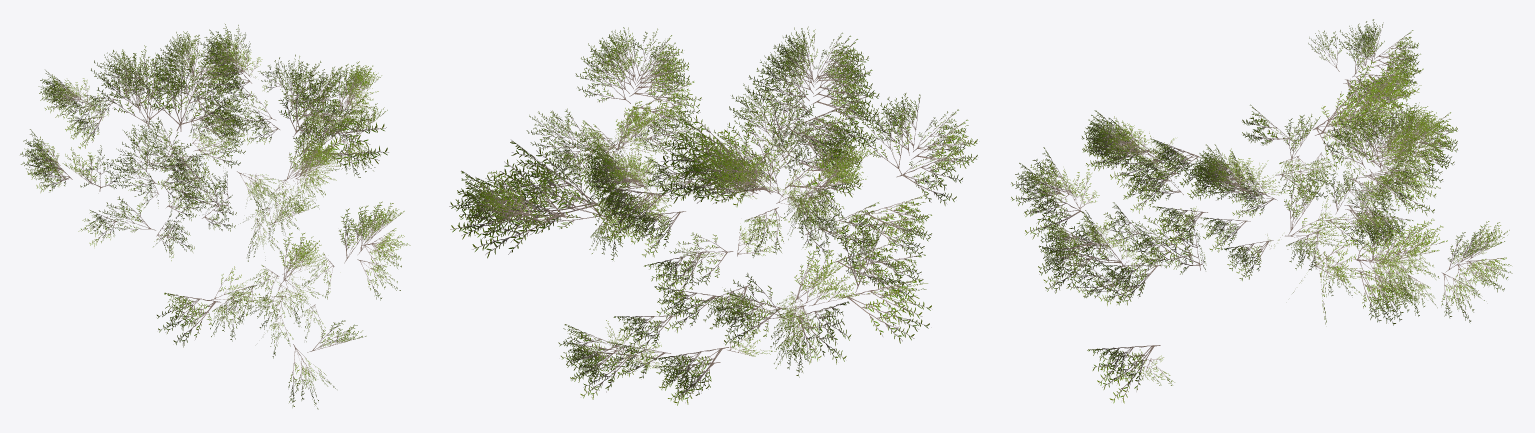
The model's file is hojas1.obj.
3 views of the same model, side by side, from view 1: azimuth 30°, elevation 25°; view 2: azimuth 150°, elevation 25°; view 3: azimuth 270°, elevation 25° (orthographic). The views are drawn at different scales.
Parts seen in each view (by area): view 1: acacia_branch.001; view 2: acacia_branch.001; view 3: acacia_branch.001.
Part boxes in pixels (x1=…): acacia_branch.001: x1=20, y1=24, x2=410, y2=409; acacia_branch.001: x1=449, y1=26, x2=977, y2=405; acacia_branch.001: x1=1011, y1=19, x2=1512, y2=403.
Size of the model in its own units: 68.89 by 60.87 by 83.03.
1 material, 1 textured.
